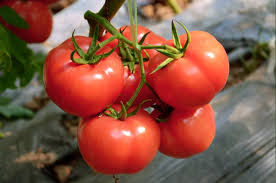tomate: (46, 18, 229, 174)
